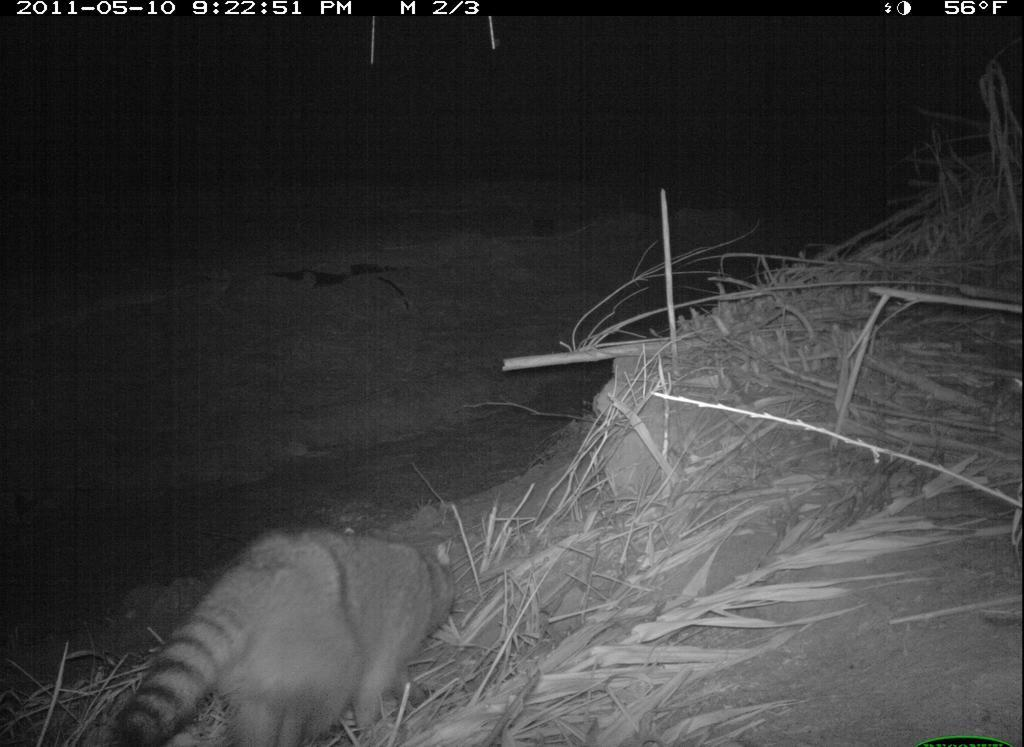raccoon: (107, 510, 477, 747)
